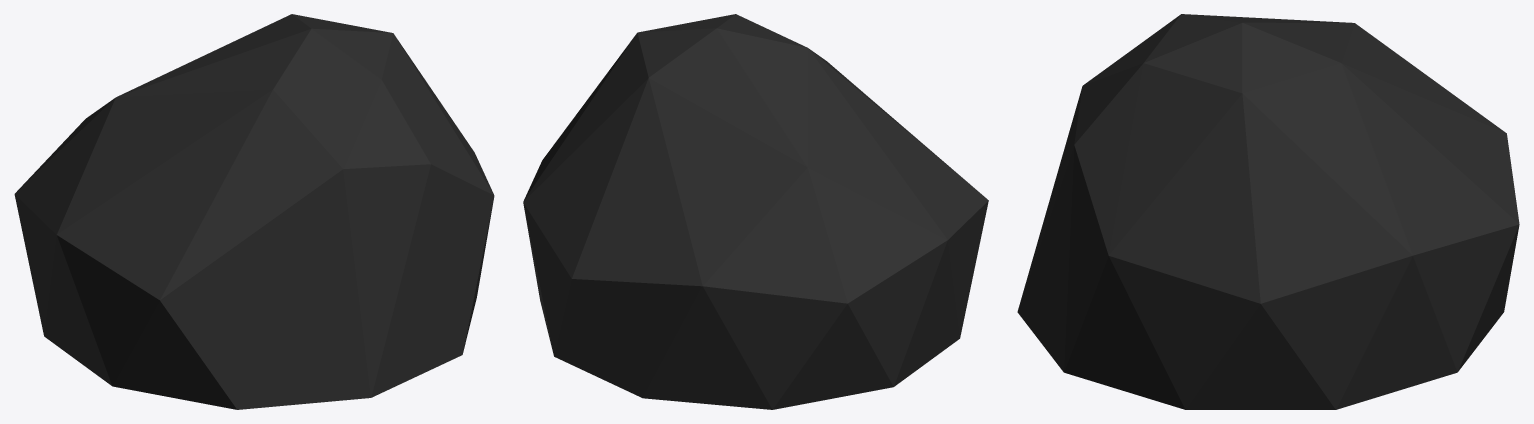
File: basura5.fbx
3 views of the same model, side by side, from view 1: azimuth 30°, elevation 25°; view 2: azimuth 150°, elevation 25°; view 3: azimuth 270°, elevation 25° (orthographic). The views are drawn at different scales.
Parts seen in each view (by area): view 1: Basura5; view 2: Basura5; view 3: Basura5.
Boxes of the visible parts, x1=… form: Basura5: x1=14, y1=14, x2=494, y2=409; Basura5: x1=523, y1=14, x2=988, y2=409; Basura5: x1=1017, y1=14, x2=1519, y2=409.
Size of the model in its own units: 176 by 114 by 167.
1 material, 1 textured.
